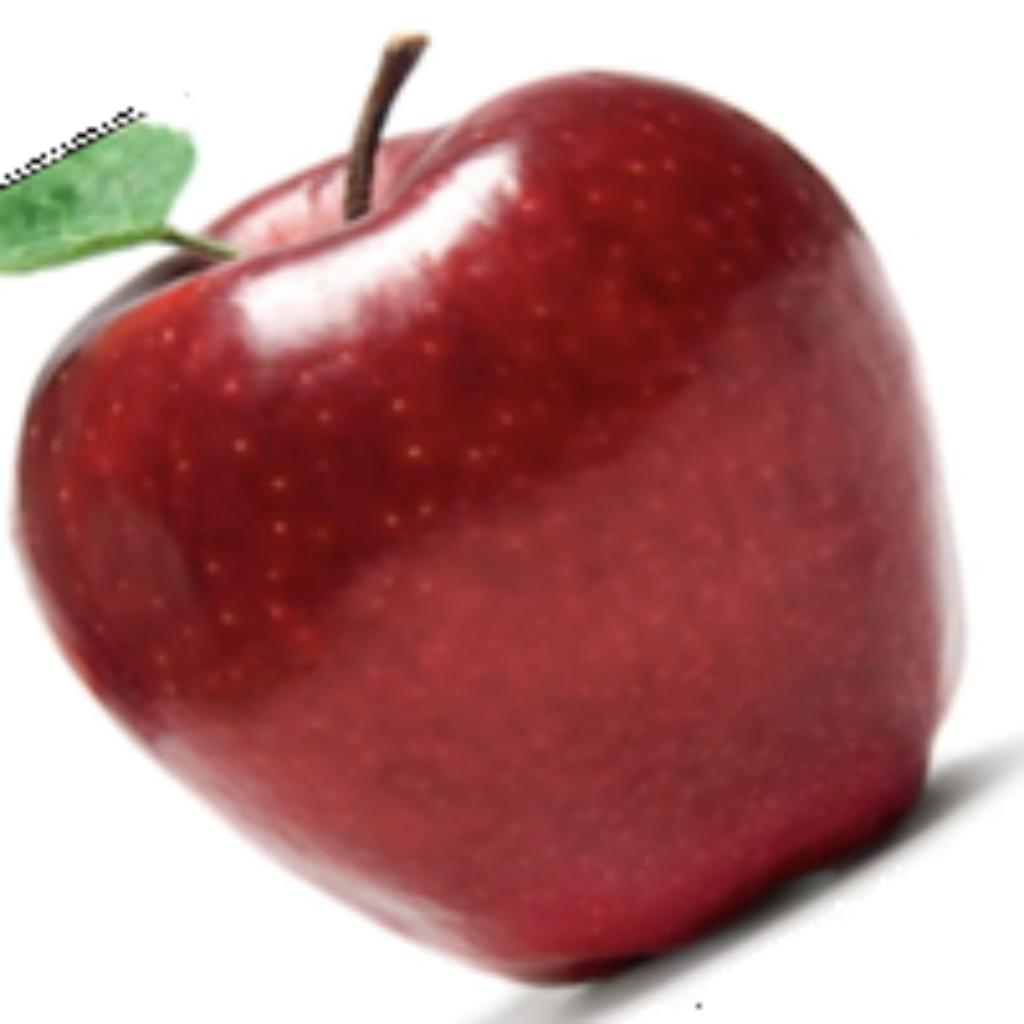apple: (0, 26, 1019, 1019)
